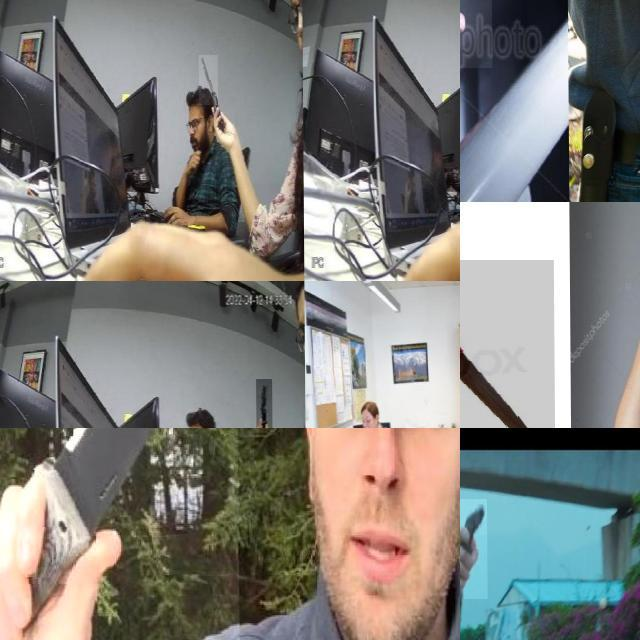-: (0, 428, 238, 640), (460, 259, 554, 428), (460, 0, 501, 84), (198, 55, 218, 105), (255, 379, 271, 428)
gun-knife-thesis - v11 Yolov5 augmented: (460, 498, 487, 599)
